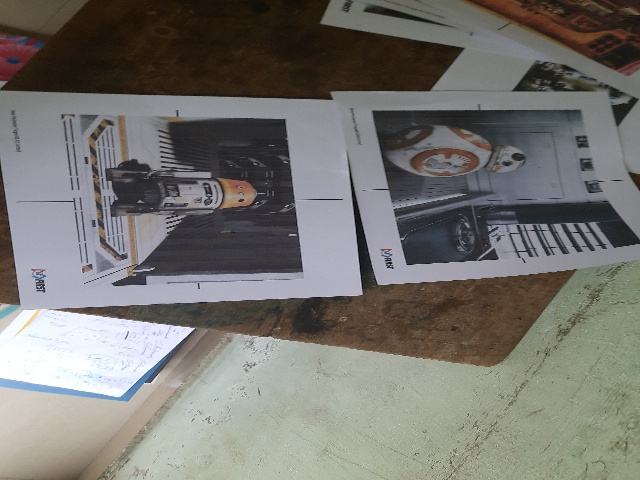bpt1: (367, 101, 637, 259)
rept2: (7, 97, 338, 290)
